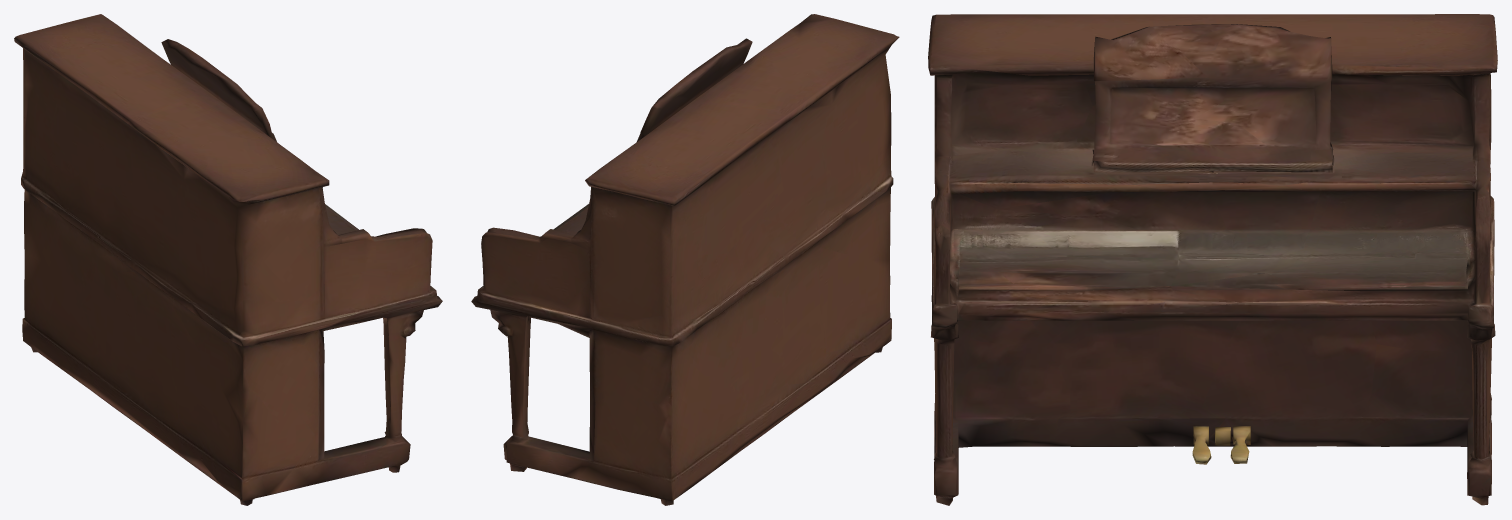
The model's file is piano.glb.
3 views of the same model, side by side, from view 1: azimuth 30°, elevation 25°; view 2: azimuth 150°, elevation 25°; view 3: azimuth 270°, elevation 25° (orthographic). The views are drawn at different scales.
Visible parts, largest first — view 1: tripo_node_c3f226ac-9fcf-4ec6-8134-aec03150b8d1; view 2: tripo_node_c3f226ac-9fcf-4ec6-8134-aec03150b8d1; view 3: tripo_node_c3f226ac-9fcf-4ec6-8134-aec03150b8d1.
Boxes of the visible parts, bbox=[...] form: tripo_node_c3f226ac-9fcf-4ec6-8134-aec03150b8d1: bbox=[14, 14, 442, 505]; tripo_node_c3f226ac-9fcf-4ec6-8134-aec03150b8d1: bbox=[471, 14, 899, 505]; tripo_node_c3f226ac-9fcf-4ec6-8134-aec03150b8d1: bbox=[928, 14, 1497, 505].
Size of the model in its own units: 0.5183 by 0.8347 by 1.
1 material, 1 textured.
